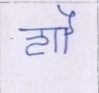ai_matra: (57, 5, 77, 33)
